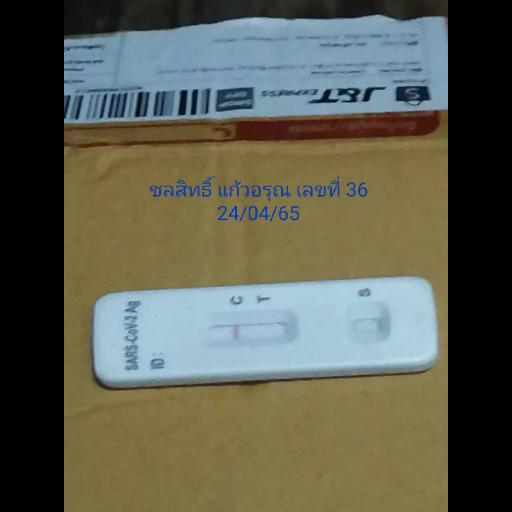Neg: (91, 274, 440, 385)
